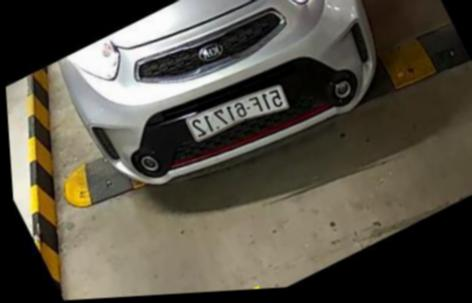License_Plate: (181, 74, 299, 160)
